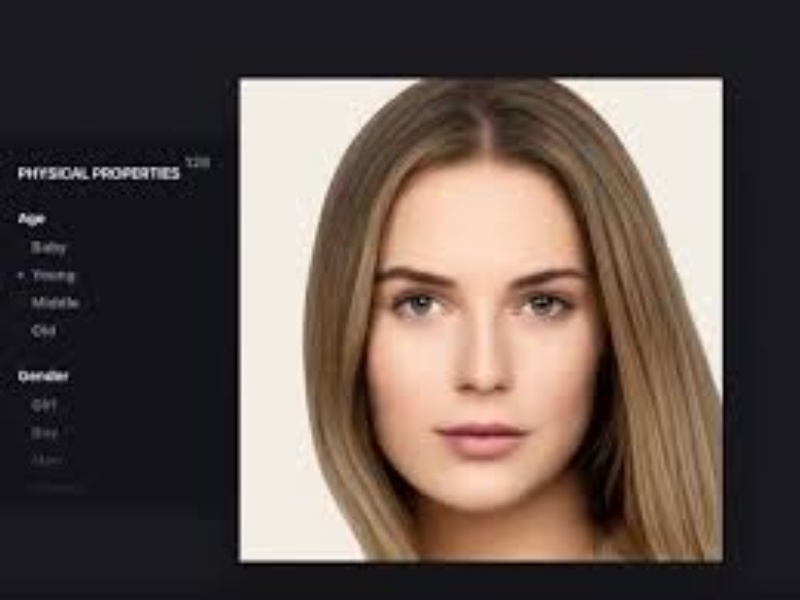face: (381, 197, 586, 470)
